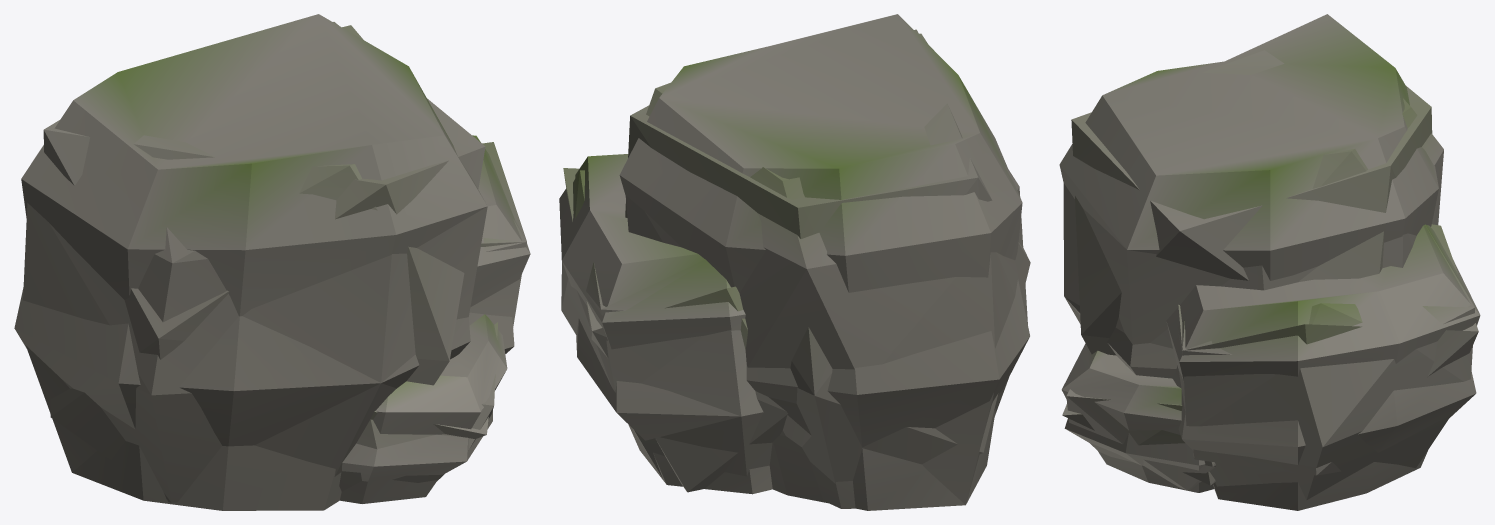
The model's file is BoulderA.preintegration.glb.
3 renders of one model, left to right at view 1: azimuth 30°, elevation 25°; view 2: azimuth 150°, elevation 25°; view 3: azimuth 270°, elevation 25°, orthographic. The views are drawn at different scales.
Parts seen in each view (by area): view 1: BoulderA_L0, BoulderA_L1, BoulderA_L2; view 2: BoulderA_L0, BoulderA_L1, BoulderA_L2; view 3: BoulderA_L0, BoulderA_L1, BoulderA_L2.
Boxes of the visible parts, x1,y1,x2,y2 form: BoulderA_L0: [14, 14, 530, 510]; BoulderA_L1: [23, 25, 526, 502]; BoulderA_L2: [43, 22, 526, 501]; BoulderA_L0: [559, 14, 1029, 510]; BoulderA_L1: [561, 33, 1027, 508]; BoulderA_L2: [563, 29, 1030, 492]; BoulderA_L0: [1059, 14, 1480, 510]; BoulderA_L1: [1063, 98, 1475, 500]; BoulderA_L2: [1062, 50, 1478, 485].
Bounding box in the file's own units: 2.4 × 1.82 × 2.
